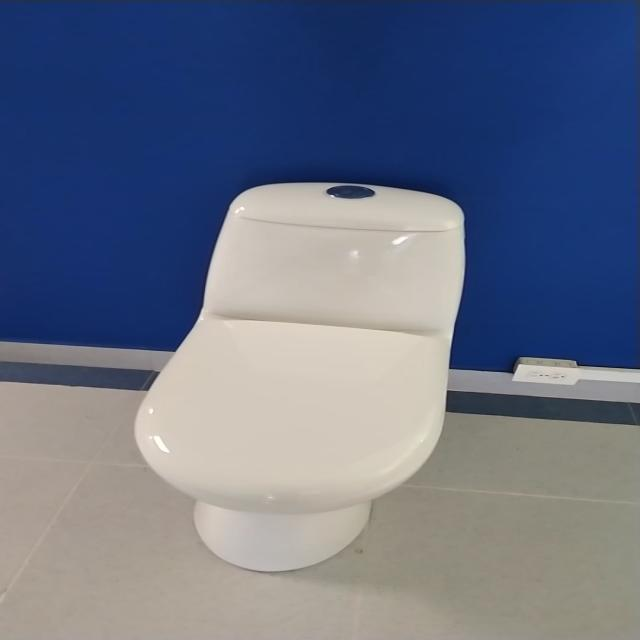toilet: (132, 181, 467, 572)
